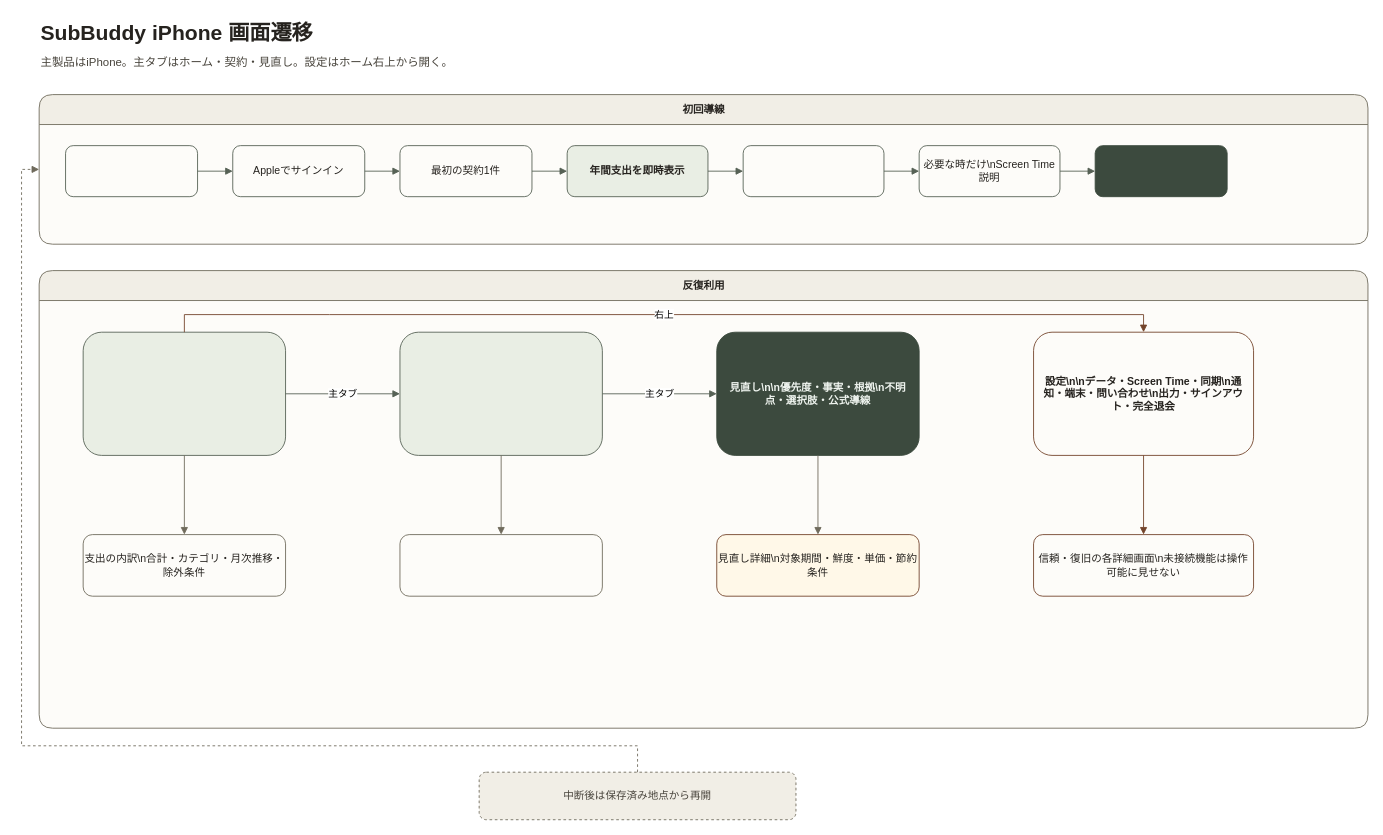
The diagram is 1383 pixels wide and 835 high, and some of its shapes have lost their labels. Each missing label, with the box of its shape:
ホーム\n\n次に確認する1件\n年間支出・更新間近\n棚卸し再開: (82, 331, 286, 455)
価値・データ説明: (65, 145, 198, 197)
契約\n\n一覧・検索・絞り込み\n追加・詳細・編集・削除: (399, 331, 602, 455)
契約詳細\n全フィールド・容量・計測設定: (399, 534, 602, 596)
最初の見直し: (1094, 145, 1227, 197)
棚卸しを続ける\nまたは後で: (742, 145, 884, 197)
